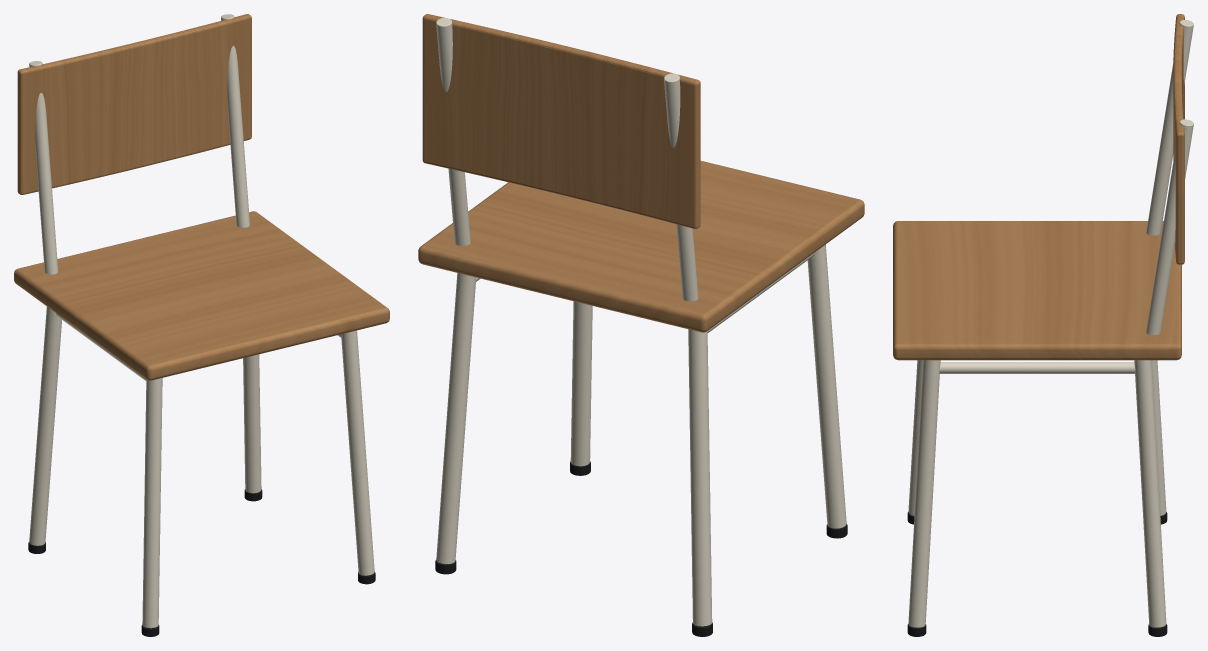
Rendered from chair_01.glb.
3 views of the same model, side by side, from view 1: azimuth 30°, elevation 25°; view 2: azimuth 150°, elevation 25°; view 3: azimuth 270°, elevation 25° (orthographic). The views are drawn at different scales.
Parts seen in each view (by area): view 1: chair_01; view 2: chair_01; view 3: chair_01.
Boxes of the visible parts, x1,y1,x2,y2 form: chair_01: [14, 14, 389, 636]; chair_01: [418, 14, 864, 636]; chair_01: [893, 14, 1193, 636].
Size of the model in its own units: 0.414 by 0.7723 by 0.4168.
3 materials, 3 textured.
